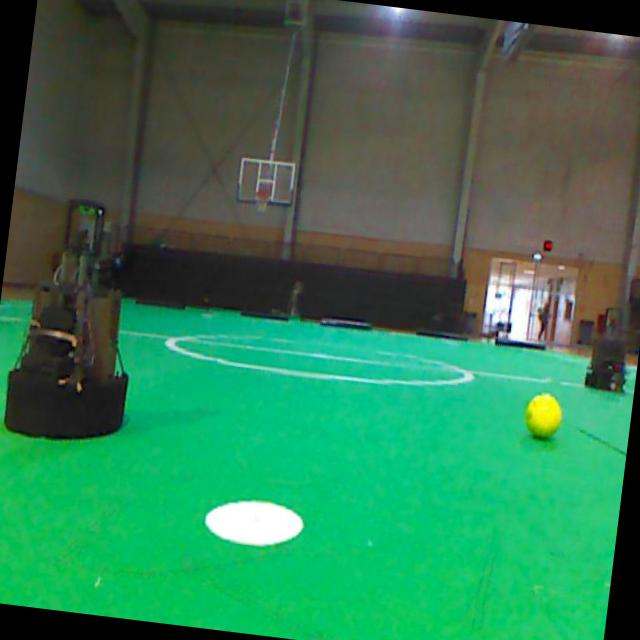ball: (525, 392, 560, 437)
robot: (4, 200, 127, 437), (584, 338, 625, 392)
